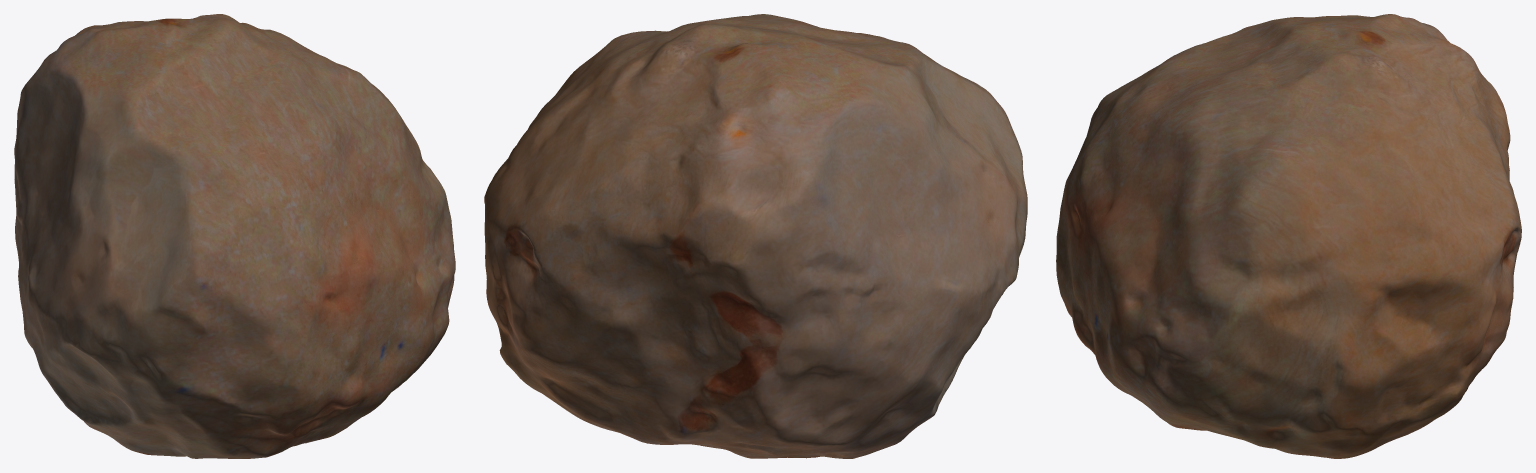
The model's file is asteroid.obj.
The picture shows the model from 3 angles, left to right: view 1: azimuth 30°, elevation 25°; view 2: azimuth 150°, elevation 25°; view 3: azimuth 270°, elevation 25°; orthographic projection. The views are drawn at different scales.
Visible parts, largest first — view 1: file1; view 2: file1; view 3: file1.
Part boxes in pixels (x1,y1,x2,y2): file1: (14,14,455,458); file1: (484,14,1027,458); file1: (1056,14,1521,458).
Bounding box in the file's own units: 1.99 × 1.82 × 2.
1 material, 1 textured.
